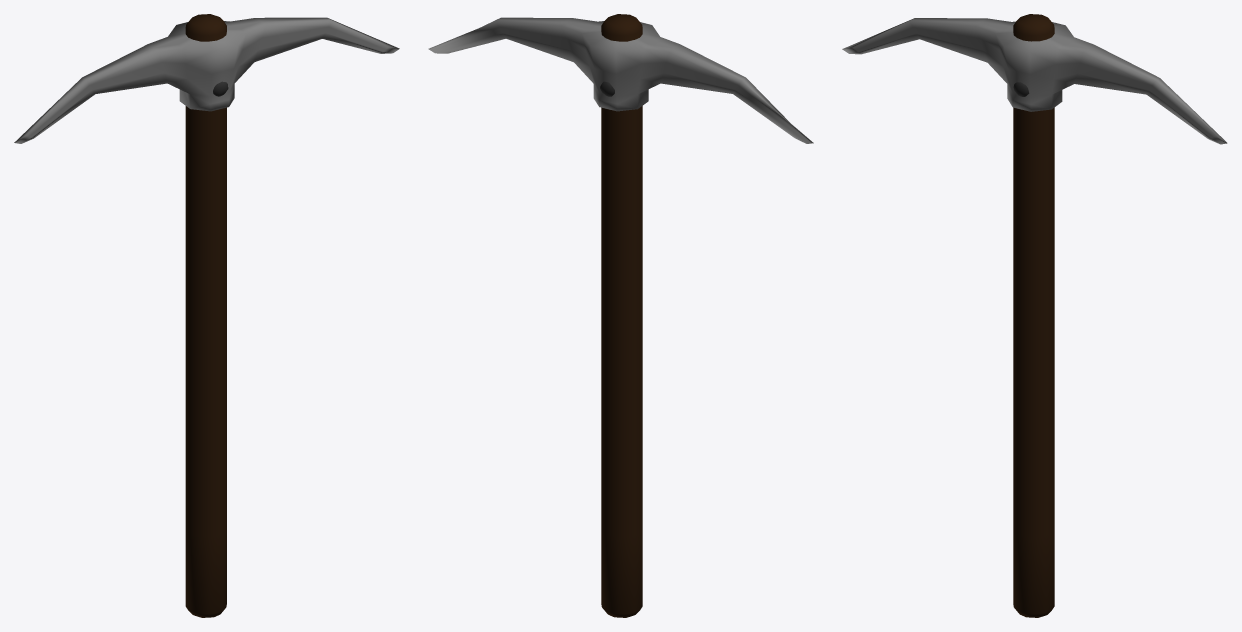
File: pickaxe_lowpoly.dae
3 renders of one model, left to right at view 1: azimuth 30°, elevation 25°; view 2: azimuth 150°, elevation 25°; view 3: azimuth 330°, elevation 25°, orthographic.
Parts seen in each view (by area): view 1: Handle, Head; view 2: Handle, Head; view 3: Handle, Head.
Part boxes in pixels (x1,y1,x2,y2): Handle: (185, 14, 226, 617); Head: (14, 17, 399, 143); Handle: (601, 14, 642, 617); Head: (428, 17, 813, 143); Handle: (1013, 14, 1054, 617); Head: (842, 18, 1227, 144).
Size of the model in its own units: 4.85 by 0.79 by 7.15.
